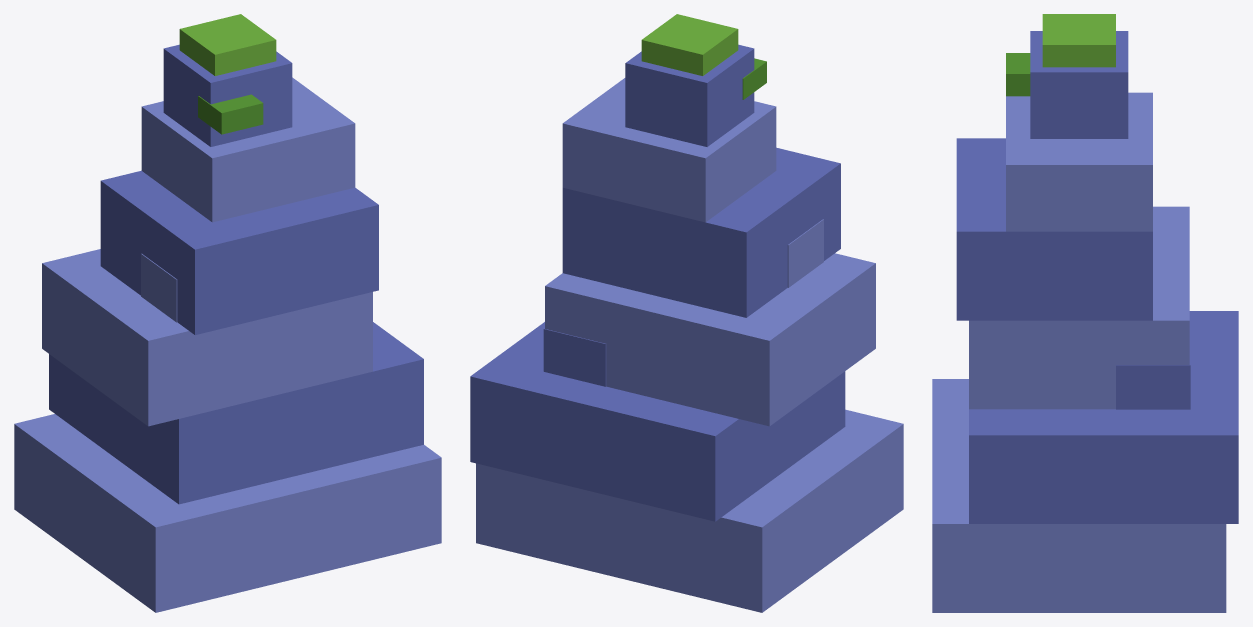
File: RockSpire.glb
3 renders of one model, left to right at view 1: azimuth 30°, elevation 25°; view 2: azimuth 150°, elevation 25°; view 3: azimuth 270°, elevation 25°, orthographic. The views are drawn at different scales.
Visible parts, largest first — view 1: RockSpire; view 2: RockSpire; view 3: RockSpire.
Part boxes in pixels (bbox=[...]): RockSpire: bbox=[14, 14, 441, 612]; RockSpire: bbox=[470, 14, 903, 612]; RockSpire: bbox=[932, 14, 1238, 612].
Bounding box in the file's own units: 14 × 23 × 12.5.
Materials: 1 (1 with a texture image).
